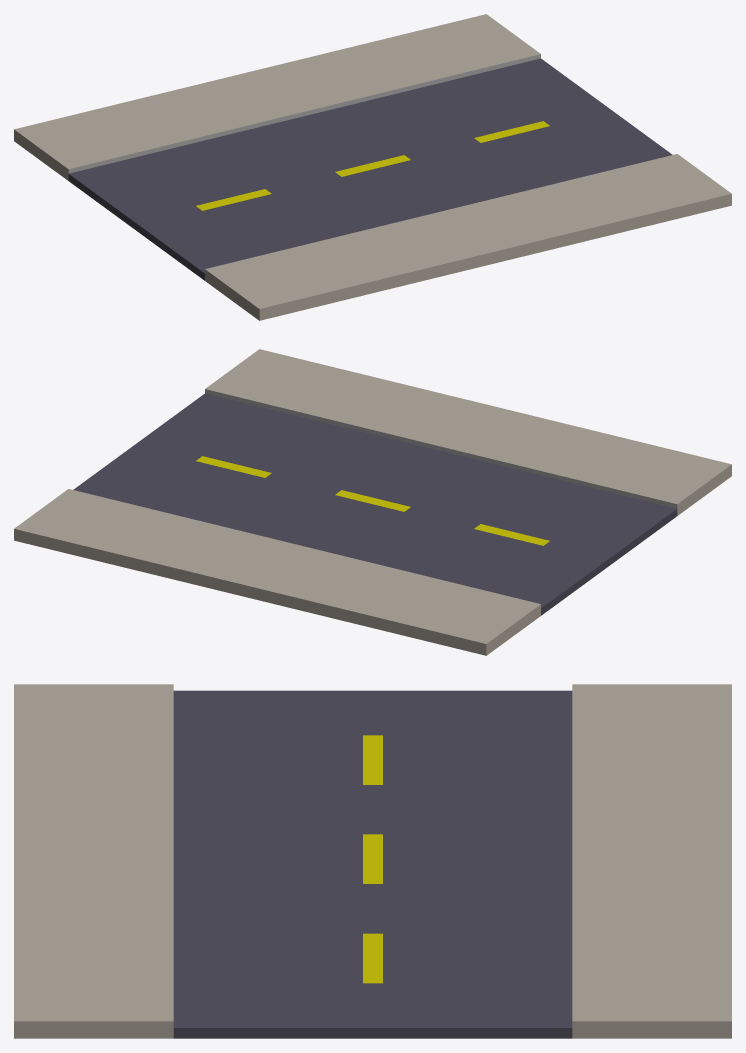
File: Base_Road.fbx
3 renders of one model, top to bottom at view 1: azimuth 30°, elevation 25°; view 2: azimuth 150°, elevation 25°; view 3: azimuth 270°, elevation 25°, orthographic. The views are drawn at different scales.
Visible parts, largest first — view 1: Road_Base; view 2: Road_Base; view 3: Road_Base.
Boxes of the visible parts, x1,y1,x2,y2 form: Road_Base: (14, 14, 731, 320); Road_Base: (14, 349, 731, 655); Road_Base: (14, 684, 731, 1038).
Size of the model in its own units: 20 by 0.4785 by 18.
